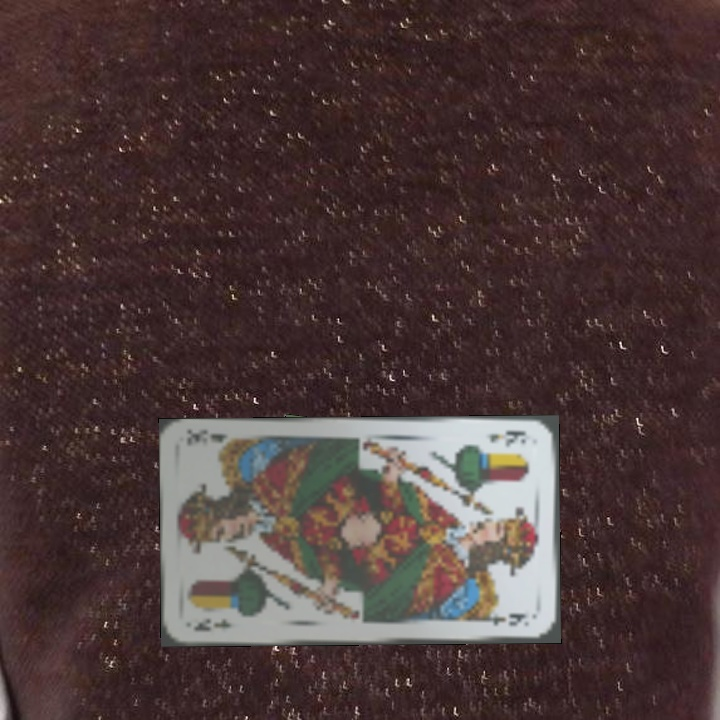EK: (486, 426, 529, 449), (189, 614, 234, 635)
